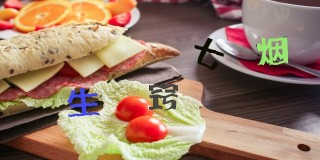七: (194, 38, 224, 70)
烟: (256, 35, 289, 65)
生: (68, 88, 100, 116)
窍: (148, 81, 179, 111)
